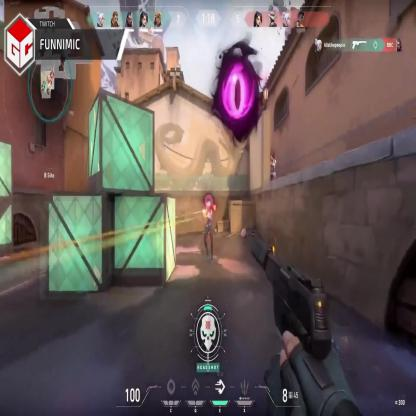enemy: (202, 194, 217, 261), (268, 151, 276, 190)
enemy_head: (205, 199, 211, 210), (270, 152, 274, 160)
